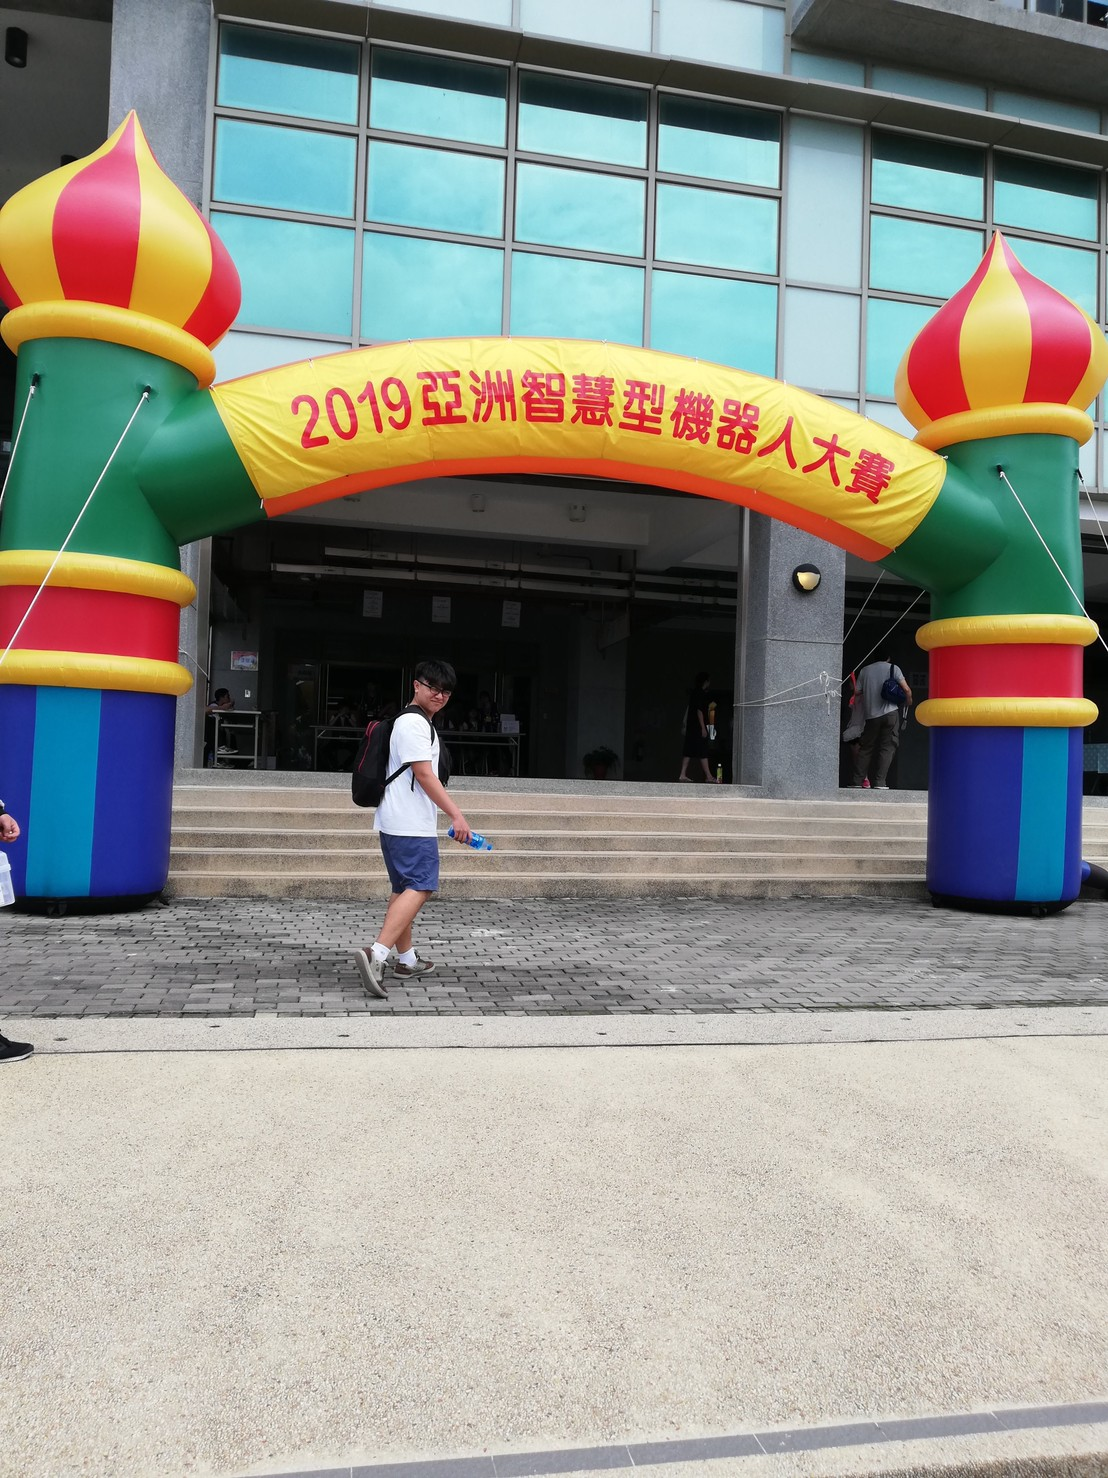people: (328, 659, 495, 1012)
